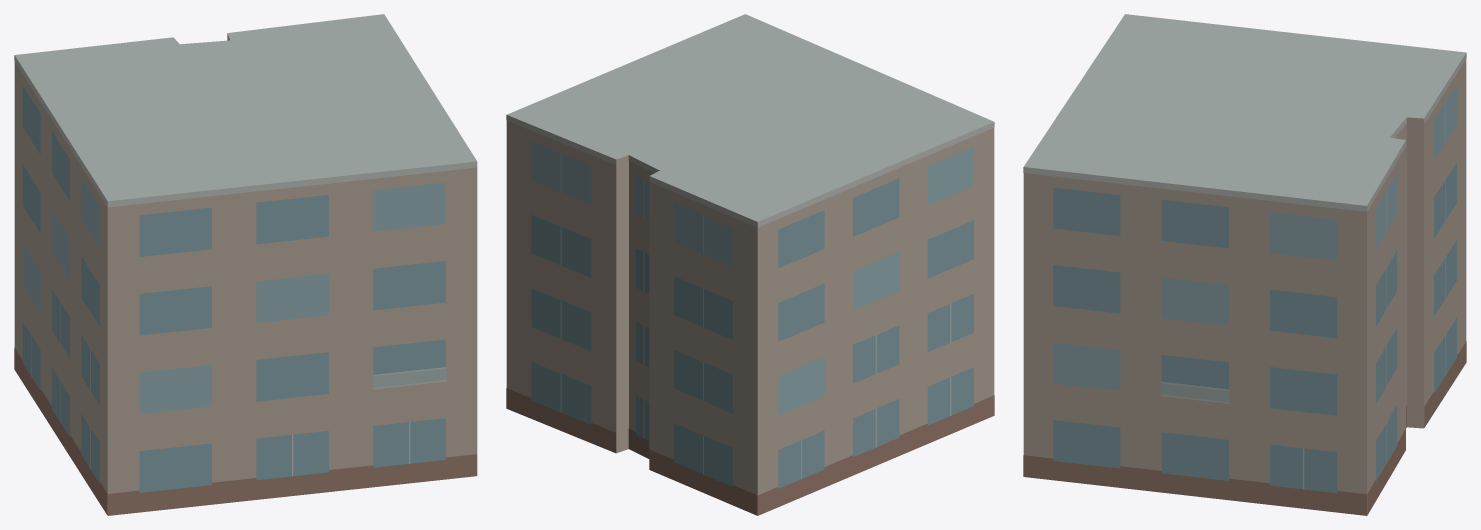
File: survey-upis-32910944.glb
The picture shows the model from 3 angles, left to right: view 1: azimuth 30°, elevation 25°; view 2: azimuth 150°, elevation 25°; view 3: azimuth 270°, elevation 25°; orthographic projection. The views are drawn at different scales.
Parts seen in each view (by area): view 1: survey-upis-32910944.tmp; view 2: survey-upis-32910944.tmp; view 3: survey-upis-32910944.tmp.
Boxes of the visible parts, bbox=[...] form: survey-upis-32910944.tmp: bbox=[14, 14, 477, 515]; survey-upis-32910944.tmp: bbox=[506, 14, 994, 515]; survey-upis-32910944.tmp: bbox=[1023, 14, 1466, 515].
Size of the model in its own units: 16.62 by 12.5 by 16.2.
